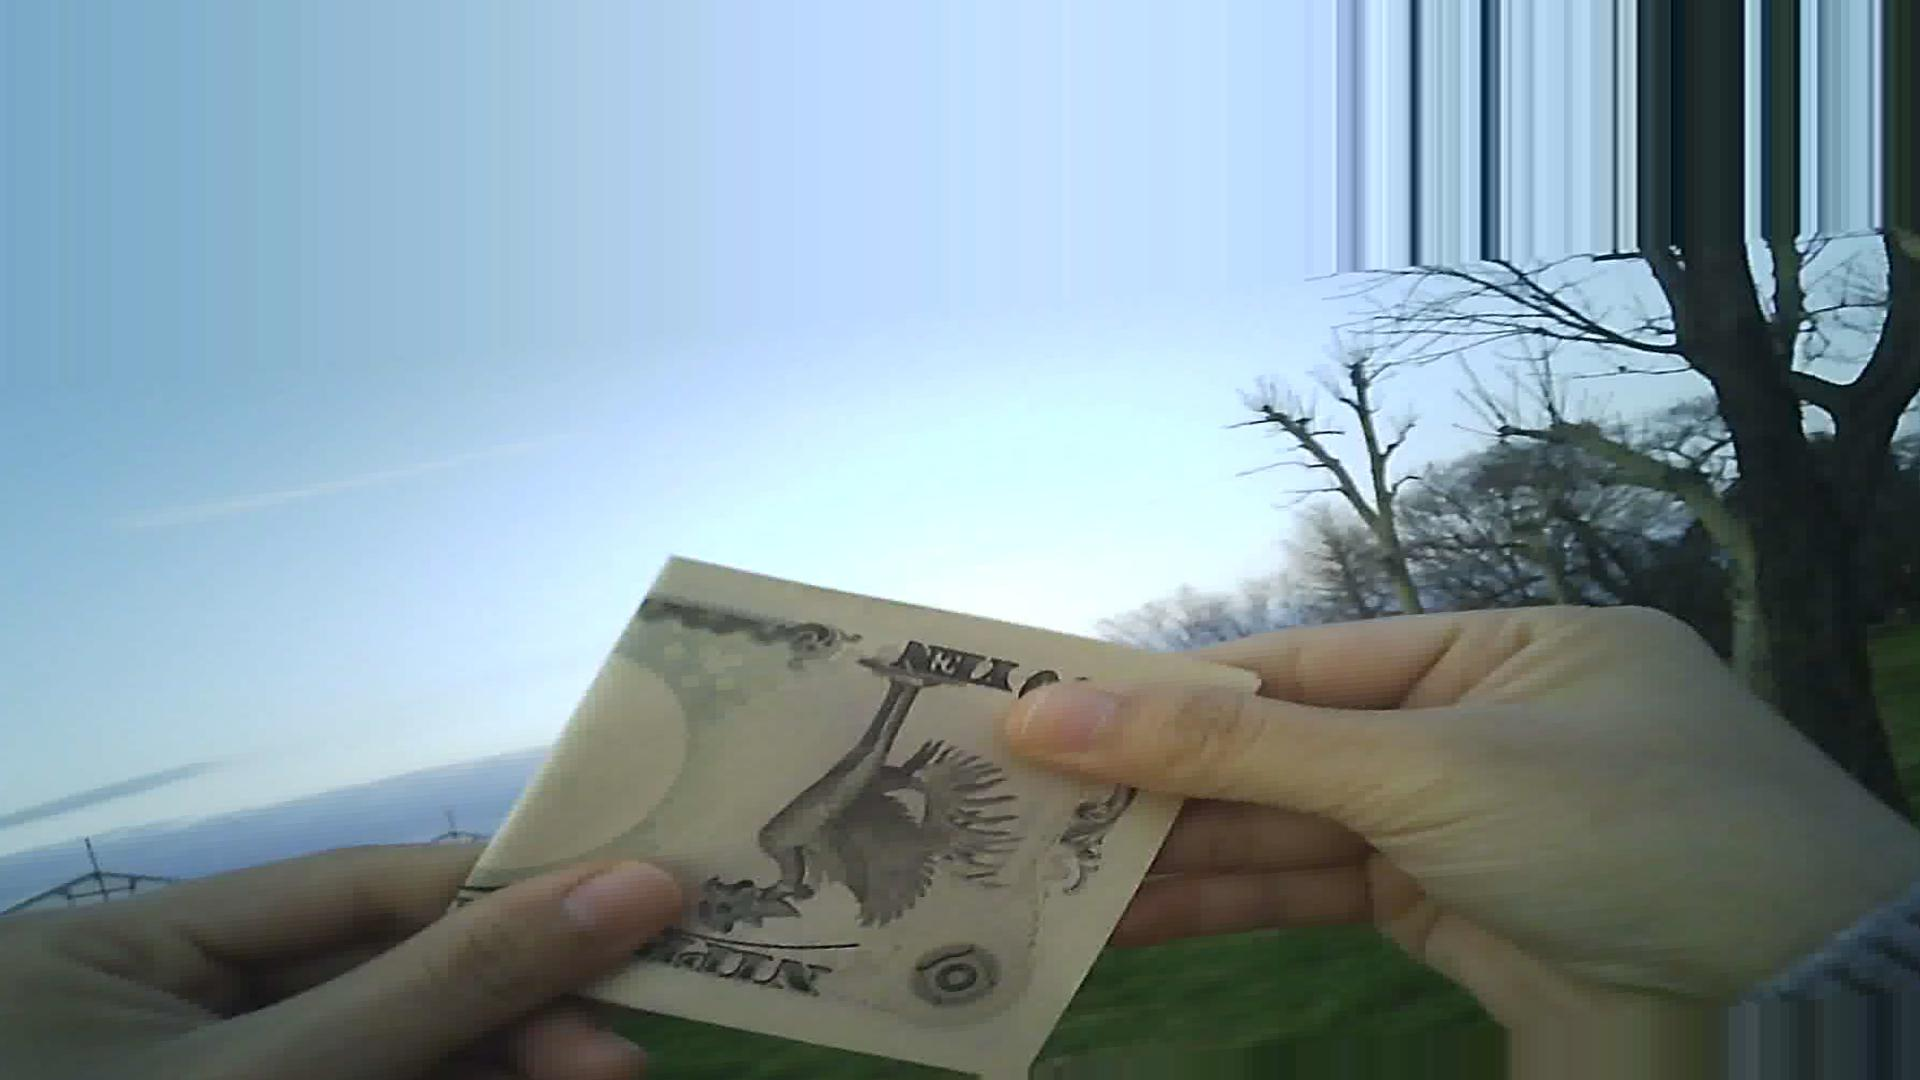10,000 Yen: (433, 555, 1232, 1079)
